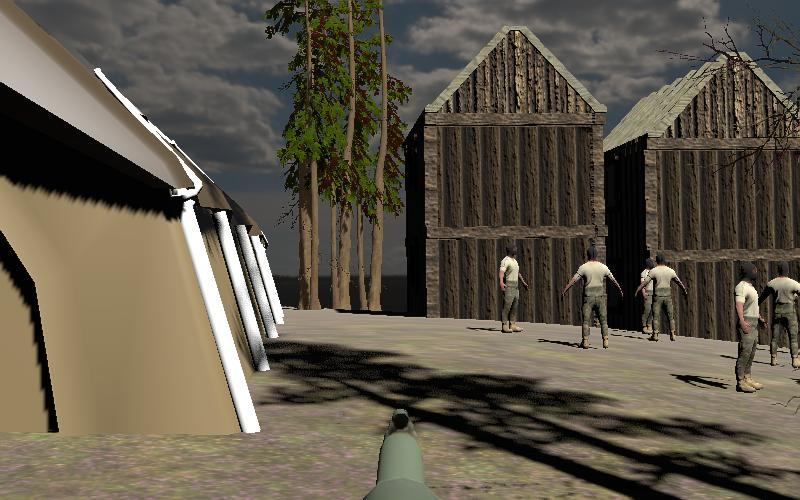House: (405, 25, 609, 322), (602, 53, 800, 338)
Human: (561, 244, 625, 349), (635, 253, 688, 343), (636, 253, 688, 342), (758, 261, 800, 369), (732, 261, 766, 392), (733, 263, 766, 392), (495, 239, 531, 335)
